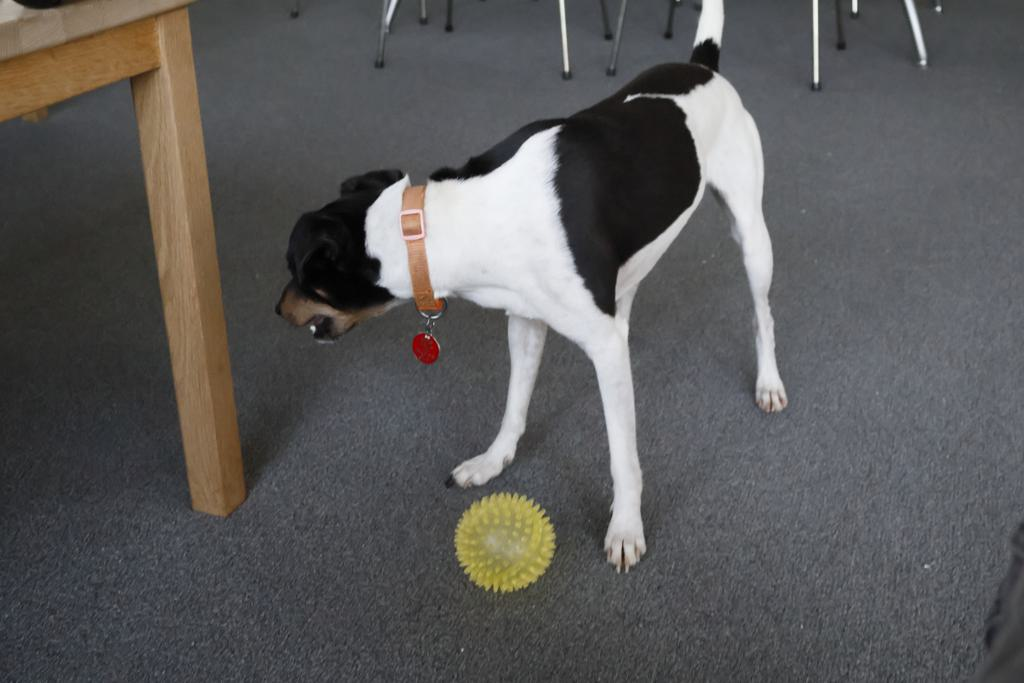Dog: (263, 0, 797, 577)
Humanoid: (959, 497, 1024, 683)
